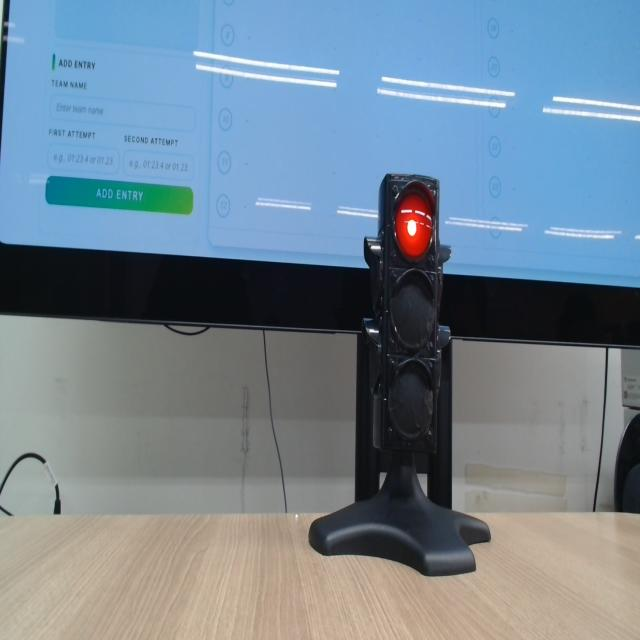red_light: (395, 192, 432, 259)
